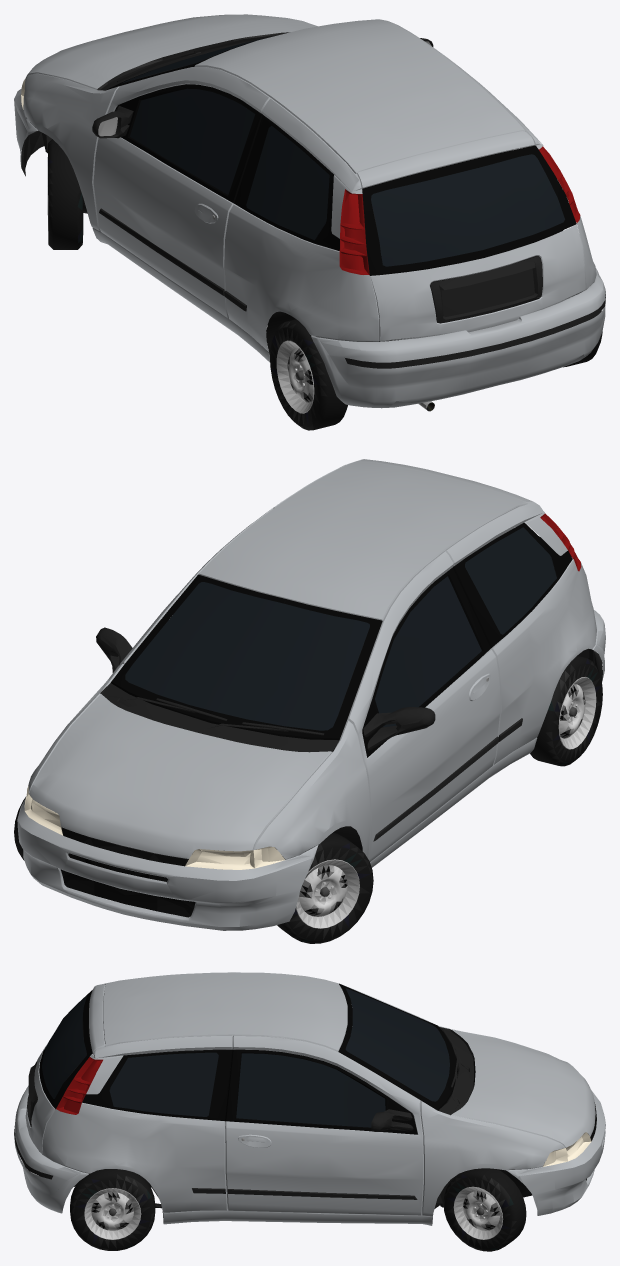
Rendered from hatch_compacto.glb.
3 views of the same model, one above another, from view 1: azimuth 30°, elevation 25°; view 2: azimuth 150°, elevation 25°; view 3: azimuth 270°, elevation 25° (orthographic). The views are drawn at different scales.
Visible parts, largest first — view 1: carroceria_pintura, carroceria_vidrio, carroceria_detalle, rueda_tras_izq_detalle, rueda_del_izq_detalle, carroceria_stop; view 2: carroceria_pintura, carroceria_vidrio, carroceria_detalle, rueda_del_izq_detalle, rueda_tras_izq_detalle, carroceria_faro; view 3: carroceria_pintura, carroceria_vidrio, carroceria_detalle, rueda_tras_der_detalle, rueda_del_der_detalle, carroceria_stop, carroceria_faro.
Part boxes in pixels (x1=…): carroceria_pintura: x1=14, y1=14, x2=605, y2=408; carroceria_vidrio: x1=121, y1=36, x2=564, y2=266; carroceria_detalle: x1=21, y1=32, x2=605, y2=411; rueda_tras_izq_detalle: x1=270, y1=319, x2=347, y2=430; rueda_del_izq_detalle: x1=47, y1=139, x2=83, y2=249; carroceria_stop: x1=339, y1=146, x2=580, y2=275; carroceria_pintura: x1=17, y1=459, x2=605, y2=930; carroceria_vidrio: x1=125, y1=527, x2=556, y2=730; carroceria_detalle: x1=55, y1=522, x2=602, y2=917; rueda_del_izq_detalle: x1=277, y1=833, x2=373, y2=943; rueda_tras_izq_detalle: x1=530, y1=655, x2=602, y2=766; carroceria_faro: x1=24, y1=786, x2=284, y2=869; carroceria_pintura: x1=14, y1=972, x2=605, y2=1225; carroceria_vidrio: x1=42, y1=988, x2=449, y2=1127; carroceria_detalle: x1=14, y1=983, x2=596, y2=1217; rueda_tras_der_detalle: x1=70, y1=1169, x2=155, y2=1250; rueda_del_der_detalle: x1=443, y1=1168, x2=526, y2=1251; carroceria_stop: x1=56, y1=1057, x2=102, y2=1114; carroceria_faro: x1=543, y1=1132, x2=591, y2=1166.
Size of the model in its own units: 1.93 by 1.44 by 3.85.
